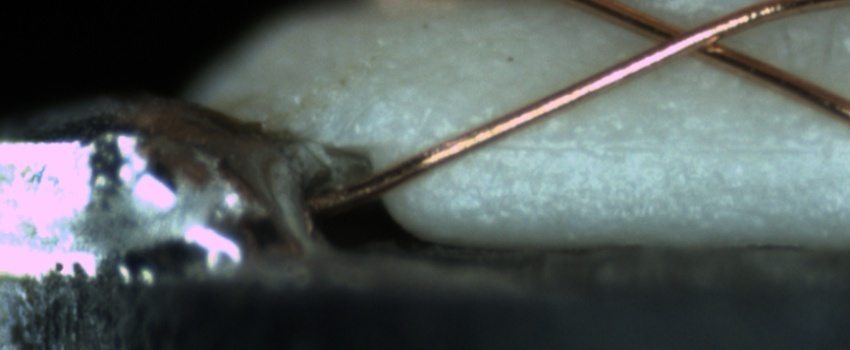CL: (628, 8, 748, 66)
DL: (466, 116, 850, 181)
